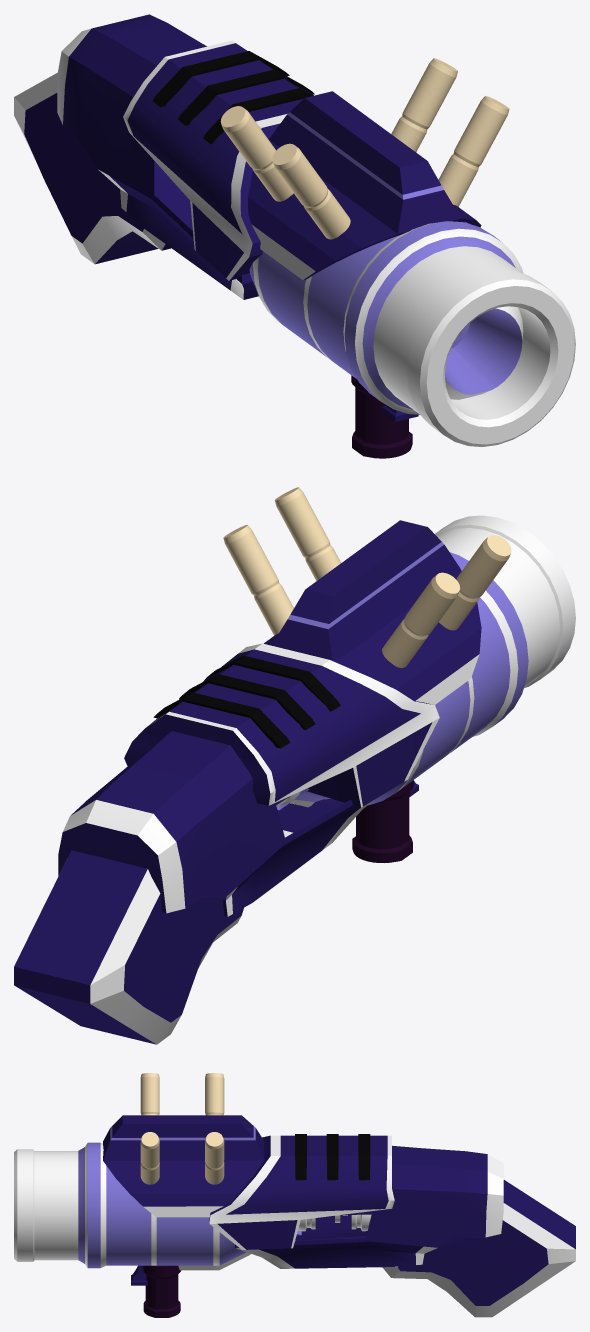
The model's file is glueblaster.fbx.
3 renders of one model, top to bottom at view 1: azimuth 30°, elevation 25°; view 2: azimuth 150°, elevation 25°; view 3: azimuth 270°, elevation 25°, orthographic. The views are drawn at different scales.
Parts seen in each view (by area): view 1: Output Hole.002, Output Base.002, Top Panel.002, Mid Panel.002, Rear Panel.002, Shoulder Cushion.002, GlueTube.009, GlueTube.011, Handle(ROcket).002, GlueTube.008, GlueTube.010, 3rd Charge (+2 smaller); view 2: Rear Panel.002, Shoulder Cushion.002, Mid Panel.002, Top Panel.002, Output Base.002, Output Hole.002, Handle(ROcket).002, GlueTube.008, GlueTube.010, GlueTube.009, GlueTube.011, 3rd Charge (+2 smaller); view 3: Rear Panel.002, Mid Panel.002, Top Panel.002, Shoulder Cushion.002, Output Base.002, Output Hole.002, Handle(ROcket).002, GlueTube.009, GlueTube.008, GlueTube.011, GlueTube.010, 3rd Charge (+2 smaller).
Part boxes in pixels (bbox=[...]): Output Hole.002: bbox=[373, 246, 575, 446]; Output Base.002: bbox=[249, 221, 523, 414]; Top Panel.002: bbox=[248, 91, 481, 280]; Mid Panel.002: bbox=[123, 40, 313, 280]; Rear Panel.002: bbox=[57, 14, 258, 299]; Shoulder Cushion.002: bbox=[14, 73, 192, 264]; GlueTube.009: bbox=[438, 95, 509, 206]; GlueTube.011: bbox=[272, 143, 350, 239]; Handle(ROcket).002: bbox=[351, 375, 412, 458]; GlueTube.008: bbox=[391, 58, 457, 152]; GlueTube.010: bbox=[220, 106, 293, 201]; 3rd Charge: bbox=[152, 51, 289, 107]; Rear Panel.002: bbox=[58, 731, 374, 916]; Shoulder Cushion.002: bbox=[14, 850, 243, 1044]; Mid Panel.002: bbox=[124, 643, 439, 807]; Top Panel.002: bbox=[264, 520, 481, 704]; Output Base.002: bbox=[276, 552, 528, 810]; Output Hole.002: bbox=[435, 515, 575, 687]; Handle(ROcket).002: bbox=[352, 780, 413, 862]; GlueTube.008: bbox=[223, 524, 293, 635]; GlueTube.010: bbox=[382, 572, 459, 667]; GlueTube.009: bbox=[274, 487, 340, 580]; GlueTube.011: bbox=[439, 535, 511, 630]; 3rd Charge: bbox=[153, 692, 290, 748]; Rear Panel.002: bbox=[235, 1145, 503, 1268]; Mid Panel.002: bbox=[209, 1135, 394, 1249]; Top Panel.002: bbox=[103, 1115, 264, 1217]; Shoulder Cushion.002: bbox=[382, 1180, 575, 1317]; Output Base.002: bbox=[78, 1142, 301, 1270]; Output Hole.002: bbox=[14, 1149, 78, 1261]; Handle(ROcket).002: bbox=[143, 1265, 181, 1317]; GlueTube.009: bbox=[140, 1132, 159, 1184]; GlueTube.008: bbox=[205, 1132, 224, 1184]; GlueTube.011: bbox=[140, 1073, 159, 1115]; GlueTube.010: bbox=[205, 1073, 224, 1115]; 3rd Charge: bbox=[358, 1134, 370, 1180].
Bounding box in the file's own units: 290 × 394 × 966.
